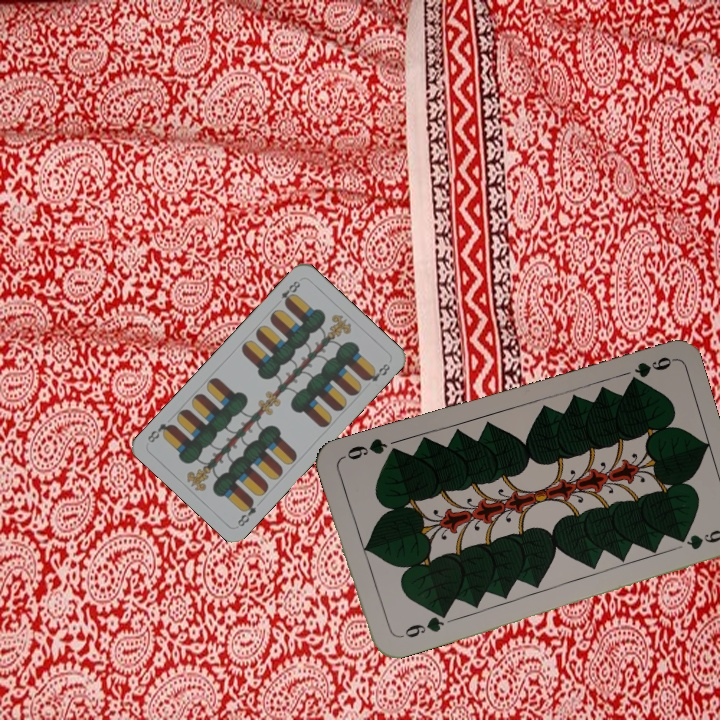E8: (233, 495, 259, 529), (277, 277, 303, 308)
G9: (624, 352, 675, 387), (393, 610, 449, 641)
